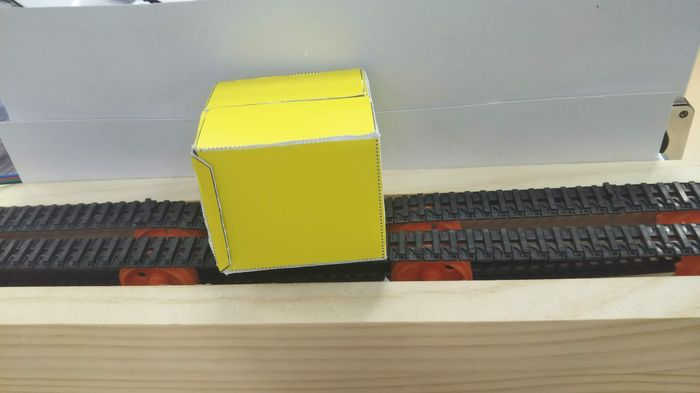box4: (187, 65, 394, 282)
